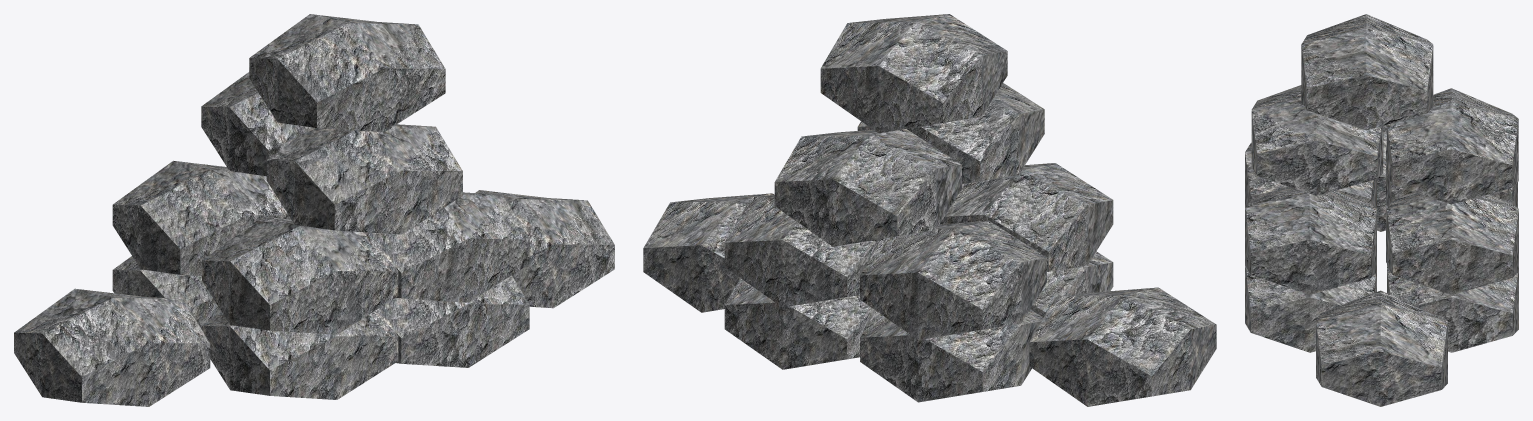
The model's file is rock pile textured2.FBX.
The picture shows the model from 3 angles, left to right: view 1: azimuth 30°, elevation 25°; view 2: azimuth 150°, elevation 25°; view 3: azimuth 270°, elevation 25°; orthographic projection. The views are drawn at different scales.
Visible parts, largest first — view 1: Rocks; view 2: Rocks; view 3: Rocks.
Part boxes in pixels (x1,y1,x2,y2): Rocks: (14, 14, 614, 406); Rocks: (643, 14, 1216, 406); Rocks: (1245, 14, 1518, 406).
Size of the model in its own units: 28.24 by 13.83 by 15.55.
1 material, 1 textured.
